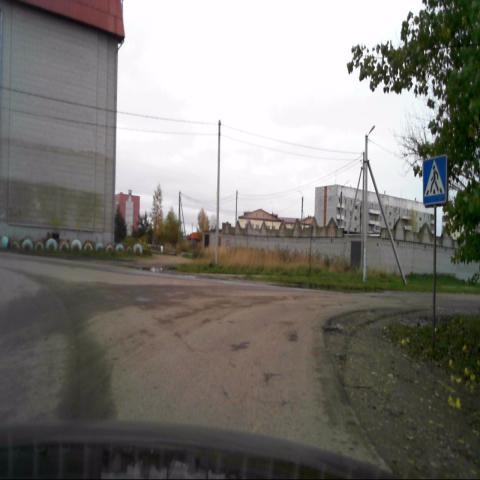5_19_1: (422, 153, 448, 206)
